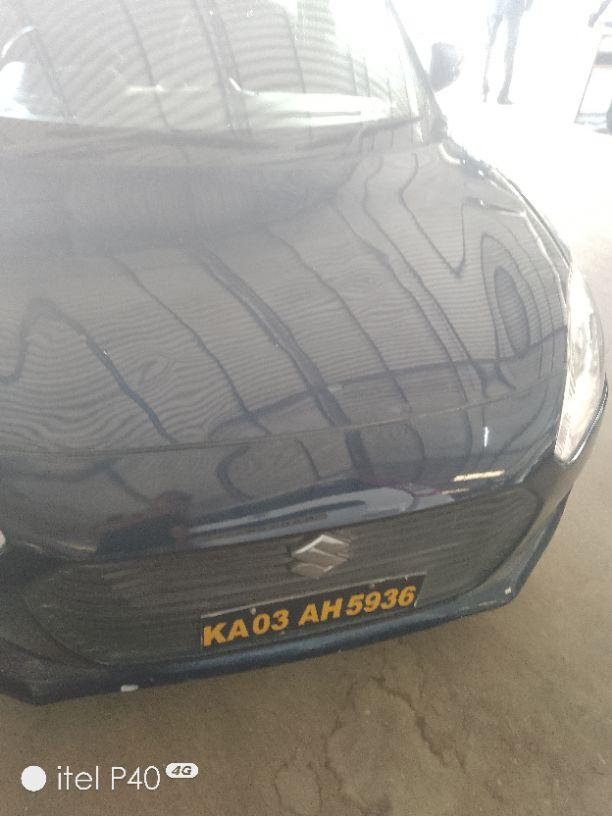license_plate: (1, 0, 608, 707), (196, 569, 427, 650)
